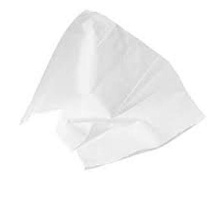tissue: (11, 3, 211, 175)
